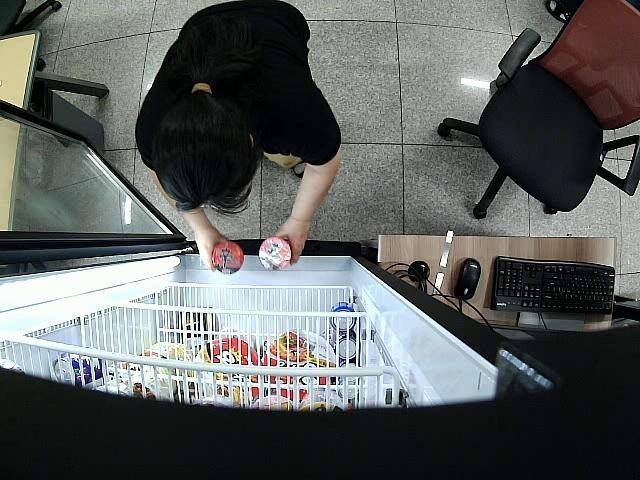02_shinRamen_S: (258, 236, 291, 272), (212, 240, 245, 274)
